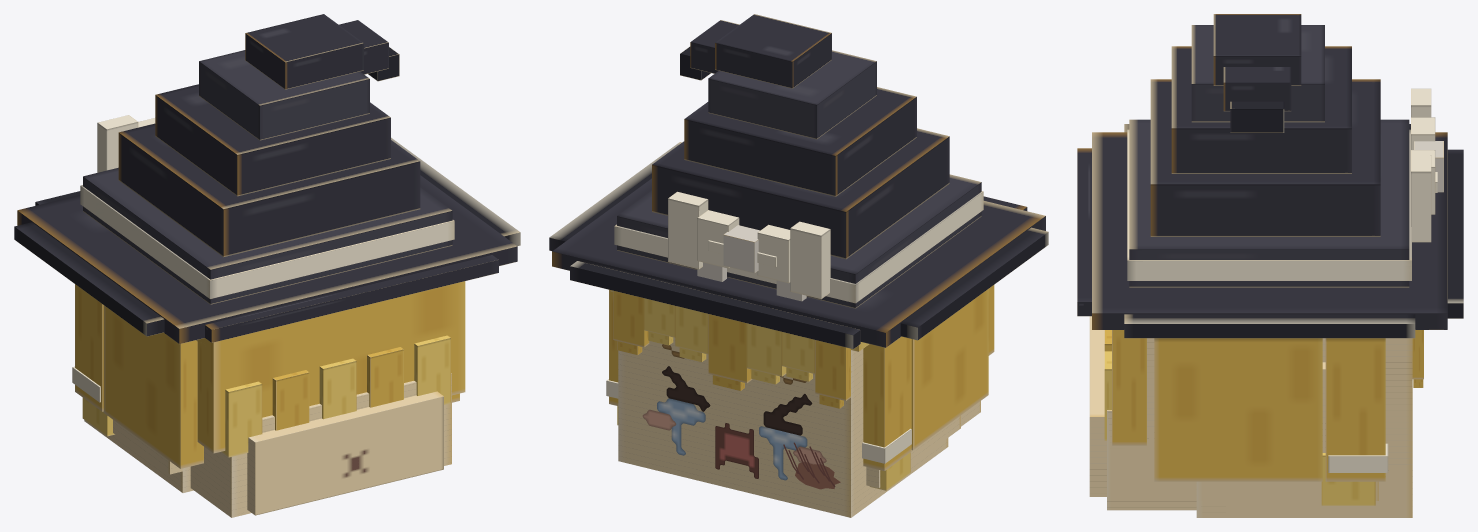
Rendered from scratch_marisa_3.obj.
The picture shows the model from 3 angles, left to right: view 1: azimuth 30°, elevation 25°; view 2: azimuth 150°, elevation 25°; view 3: azimuth 270°, elevation 25°; orthographic projection. The views are drawn at different scales.
Parts seen in each view (by area): view 1: scratch_marisa_3; view 2: scratch_marisa_3; view 3: scratch_marisa_3.
Boxes of the visible parts, x1,y1,x2,y2 form: scratch_marisa_3: (14,14,520,517); scratch_marisa_3: (549,14,1048,517); scratch_marisa_3: (1077,14,1463,517).
Size of the model in its own units: 19 by 19.34 by 15.53.
1 material, 1 textured.
